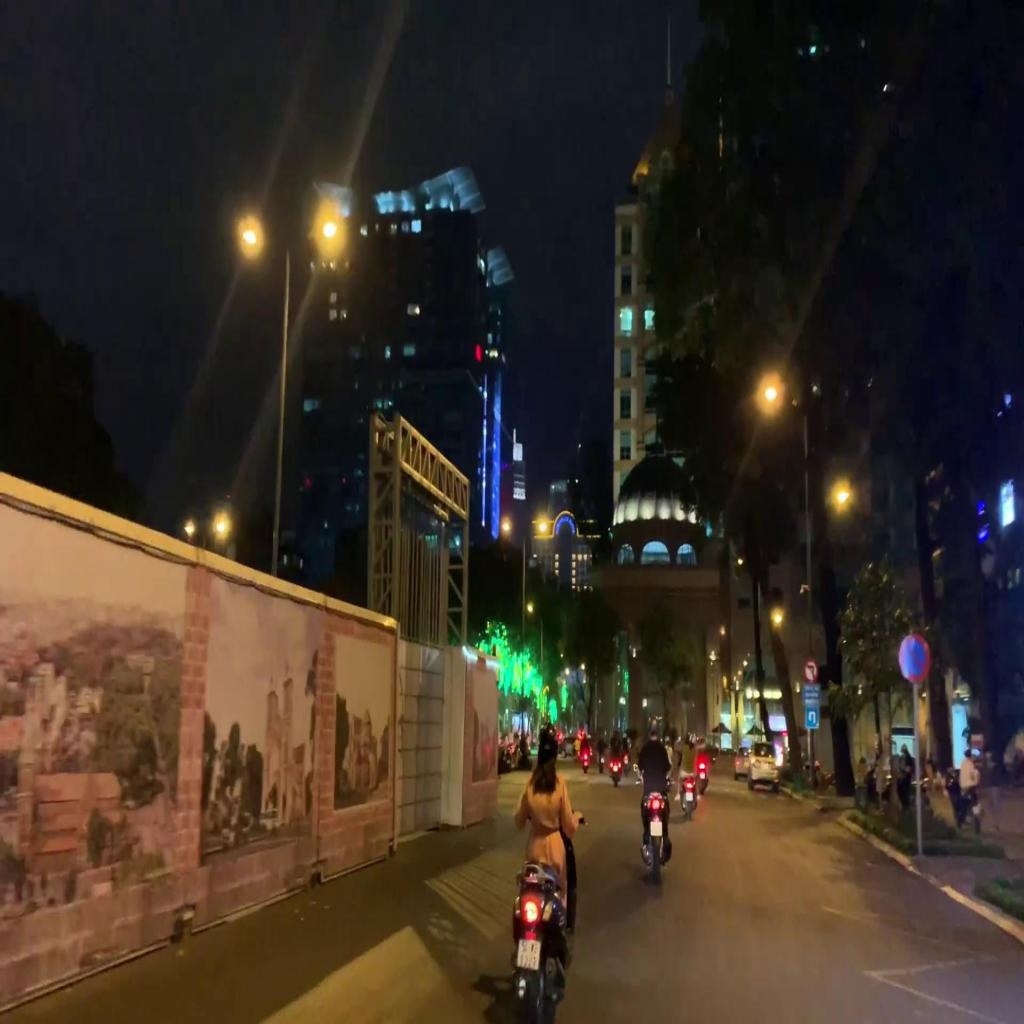cam_do_xe: (899, 633, 929, 682)
cam_re_trai: (804, 657, 818, 683)
cho_quay_xe: (805, 704, 820, 729)
khac: (803, 682, 819, 704)
